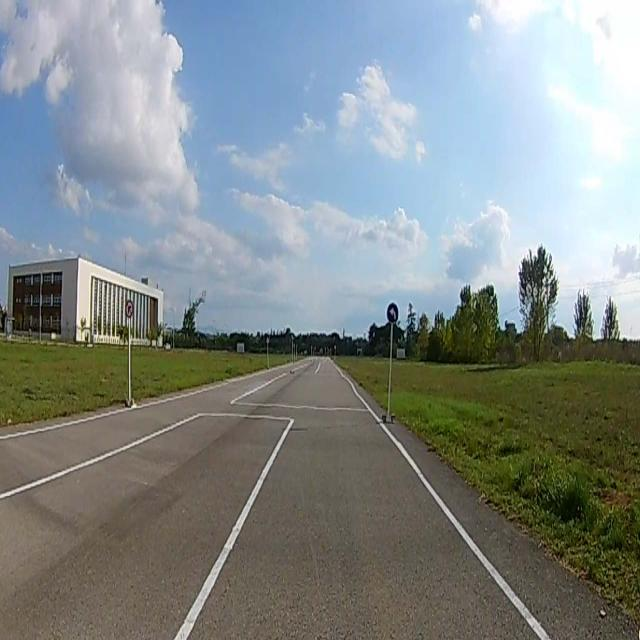sagadonulmez: (125, 301, 133, 318)
sol: (386, 304, 398, 324)
